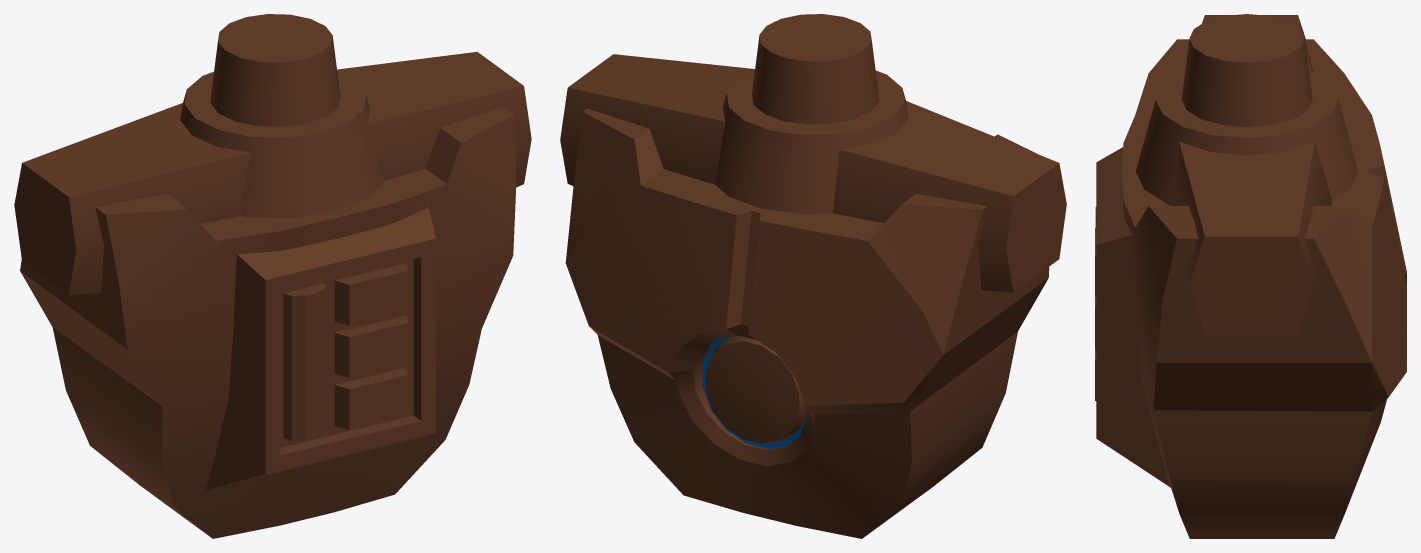
Rendered from Robot Torso.obj.
The picture shows the model from 3 angles, left to right: view 1: azimuth 30°, elevation 25°; view 2: azimuth 150°, elevation 25°; view 3: azimuth 270°, elevation 25°; orthographic projection. The views are drawn at different scales.
Visible parts, largest first — view 1: robottorso_Sphere.016; view 2: robottorso_Sphere.016; view 3: robottorso_Sphere.016.
Boxes of the visible parts, x1,y1,x2,y2 form: robottorso_Sphere.016: (14, 14, 531, 538); robottorso_Sphere.016: (560, 14, 1066, 538); robottorso_Sphere.016: (1095, 14, 1406, 538).
Size of the model in its own units: 0.8465 by 0.8128 by 0.5034.
